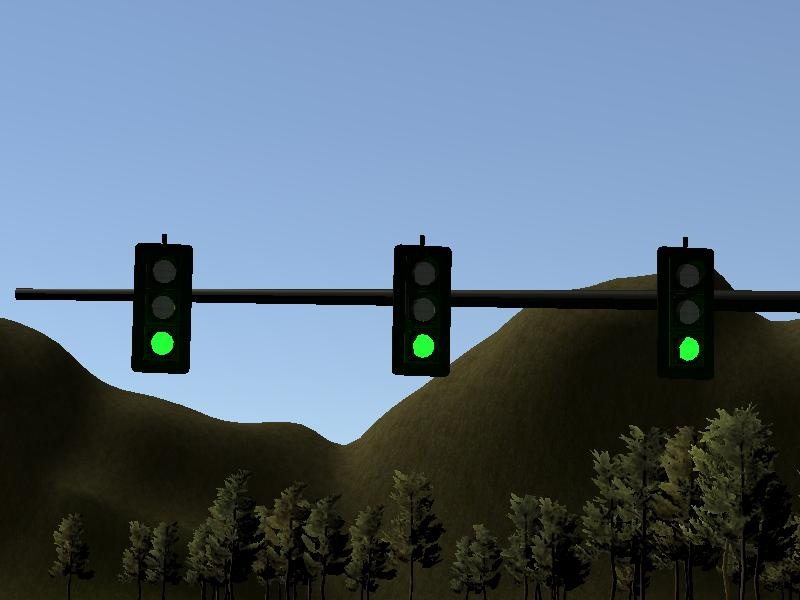GREEN: (125, 237, 199, 378), (649, 240, 718, 381), (390, 239, 456, 383)
